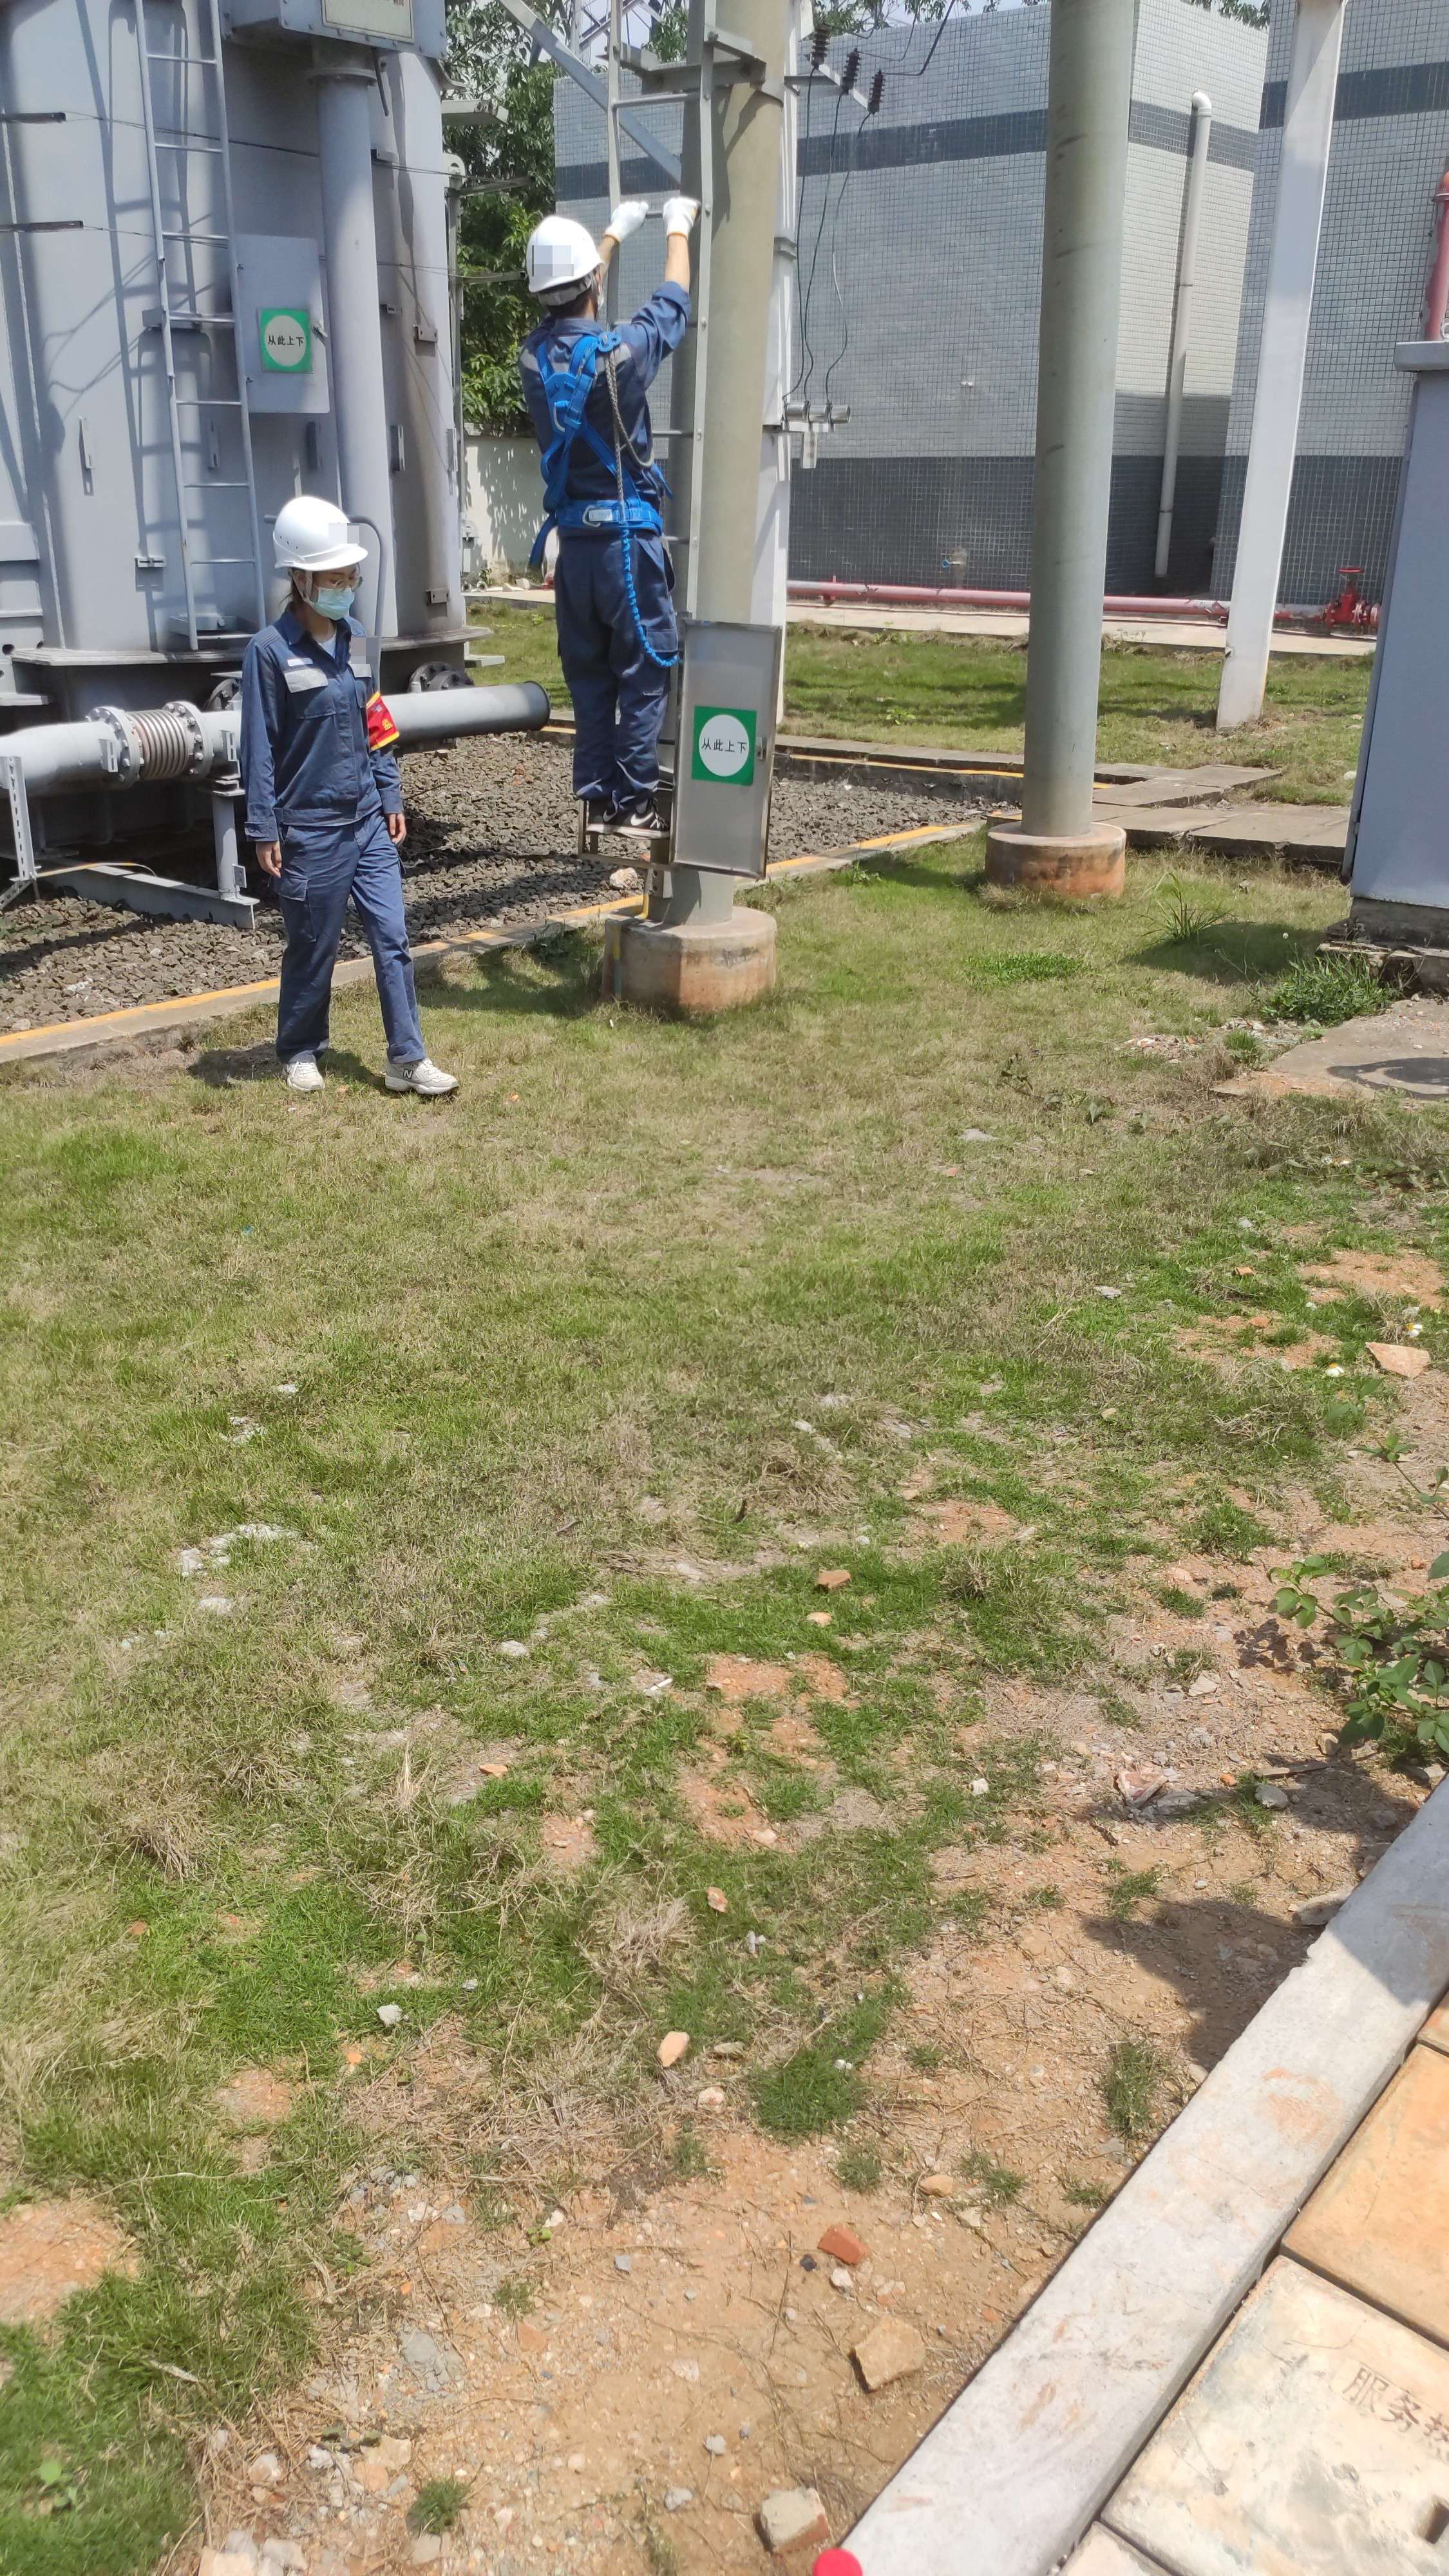downsuit: (543, 556, 694, 807), (280, 860, 432, 1081)
upsuit: (253, 630, 398, 842), (534, 297, 686, 474)
wrongtop: (644, 225, 704, 331)
